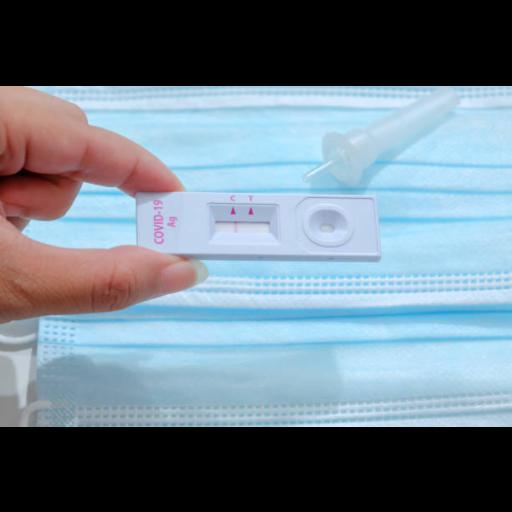Neg: (137, 190, 377, 254)
